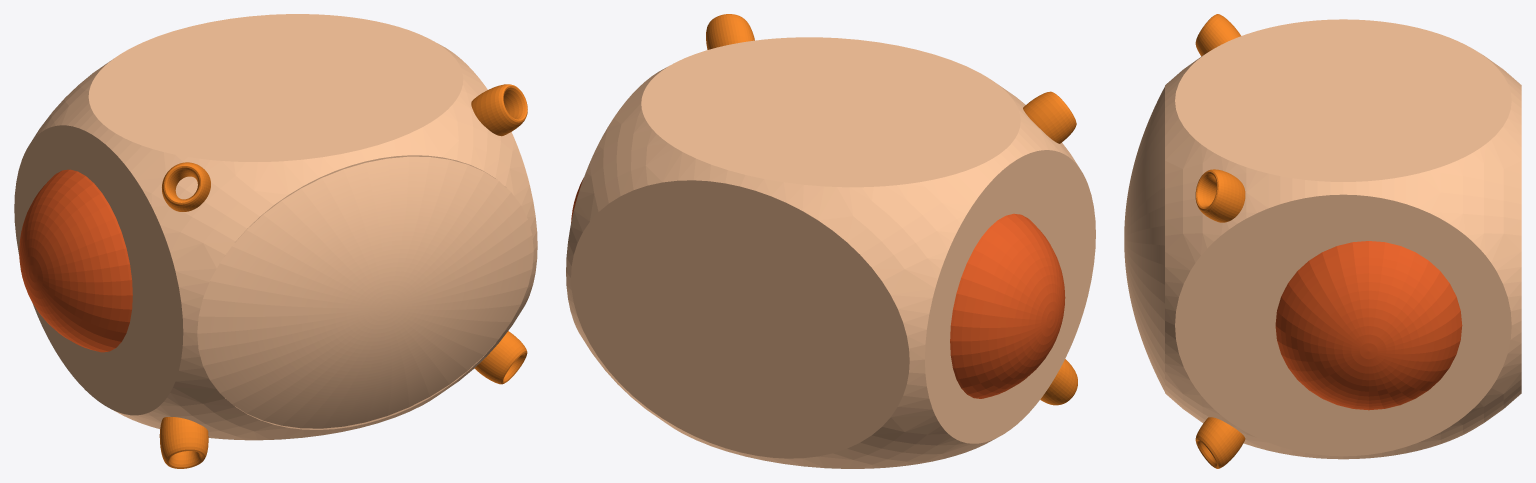
The model's file is tinker.obj.
3 renders of one model, left to right at view 1: azimuth 30°, elevation 25°; view 2: azimuth 150°, elevation 25°; view 3: azimuth 270°, elevation 25°, orthographic.
Parts seen in each view (by area): view 1: obj_2, obj_4, obj_1, obj_8, obj_7, obj_5, obj_6; view 2: obj_2, obj_1, obj_6, obj_7, obj_8; view 3: obj_2, obj_0, obj_4, obj_7, obj_5, obj_6.
Boxes of the visible parts, left/top/right/bottom form: obj_2: left=14, top=14, right=537, bottom=440; obj_4: left=197, top=156, right=533, bottom=428; obj_1: left=19, top=169, right=132, bottom=352; obj_8: left=159, top=417, right=208, bottom=468; obj_7: left=471, top=84, right=527, bottom=136; obj_5: left=474, top=331, right=527, bottom=384; obj_6: left=162, top=162, right=210, bottom=211; obj_2: left=566, top=37, right=1095, bottom=468; obj_1: left=950, top=213, right=1065, bottom=398; obj_6: left=1023, top=91, right=1076, bottom=143; obj_7: left=706, top=14, right=754, bottom=49; obj_8: left=1040, top=359, right=1077, bottom=405; obj_2: left=1165, top=19, right=1521, bottom=459; obj_0: left=1275, top=241, right=1462, bottom=410; obj_4: left=1124, top=87, right=1164, bottom=391; obj_7: left=1195, top=169, right=1245, bottom=222; obj_5: left=1195, top=417, right=1245, bottom=468; obj_6: left=1195, top=14, right=1240, bottom=56.
Size of the model in its own units: 52 by 33 by 39.
